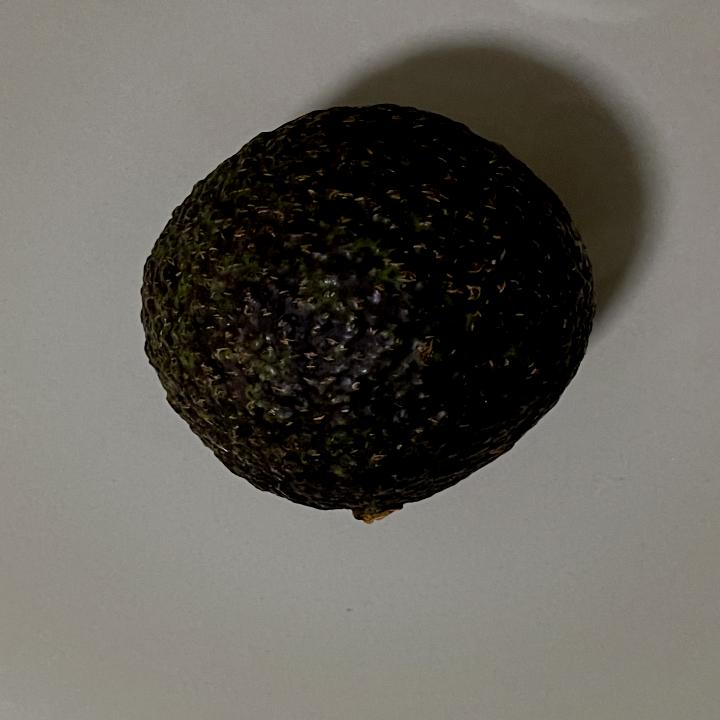Level1: (128, 93, 606, 536)
